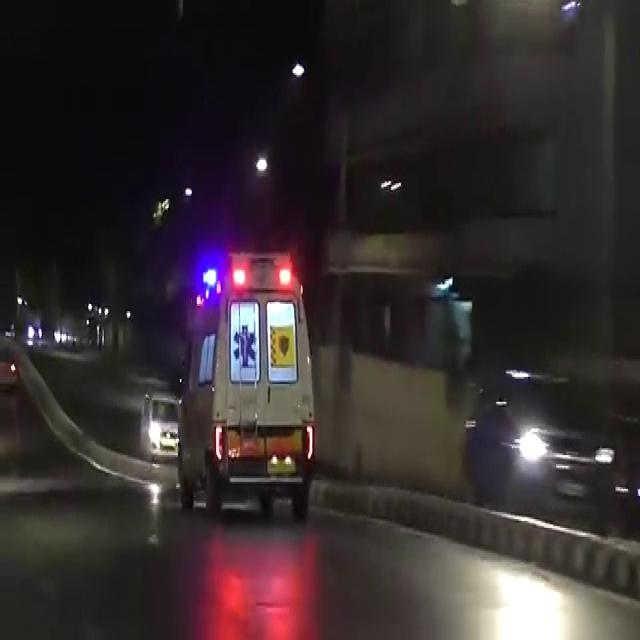ambulance: (170, 256, 326, 520)
